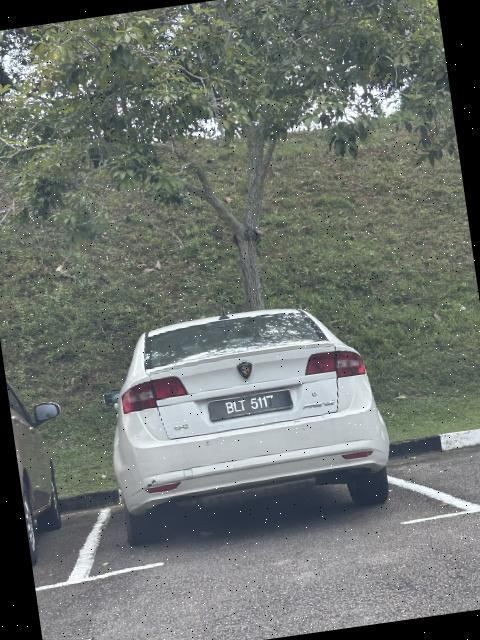BLT511: (209, 388, 295, 424)
License_Plate: (209, 388, 295, 424)
car: (91, 283, 398, 542)
